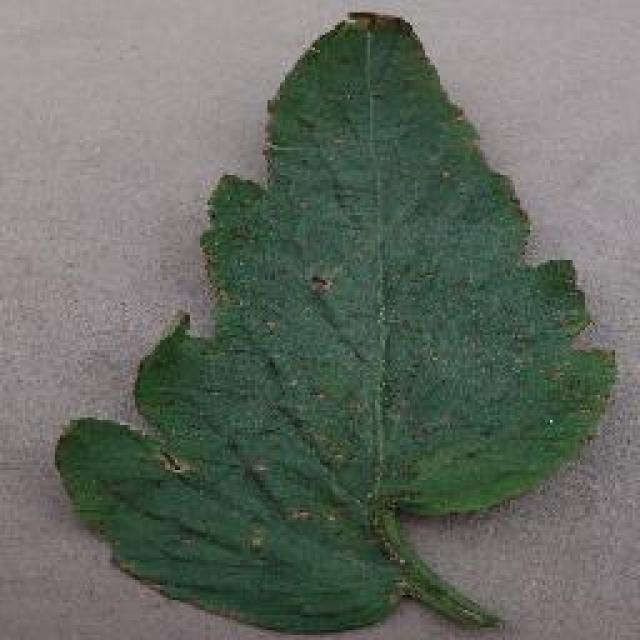bacterial spot: (49, 12, 616, 637)
